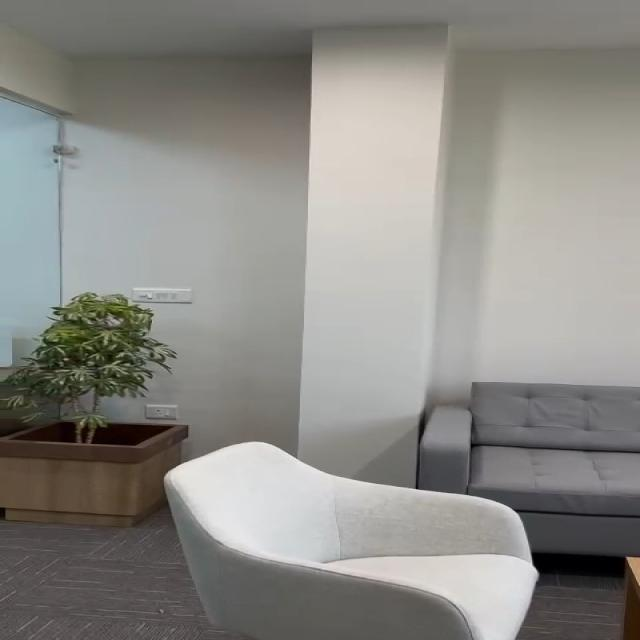floor: (0, 512, 200, 640), (532, 554, 614, 639)
furniture: (184, 414, 514, 640), (0, 276, 193, 538), (392, 352, 640, 522)
wall: (168, 24, 640, 370)
